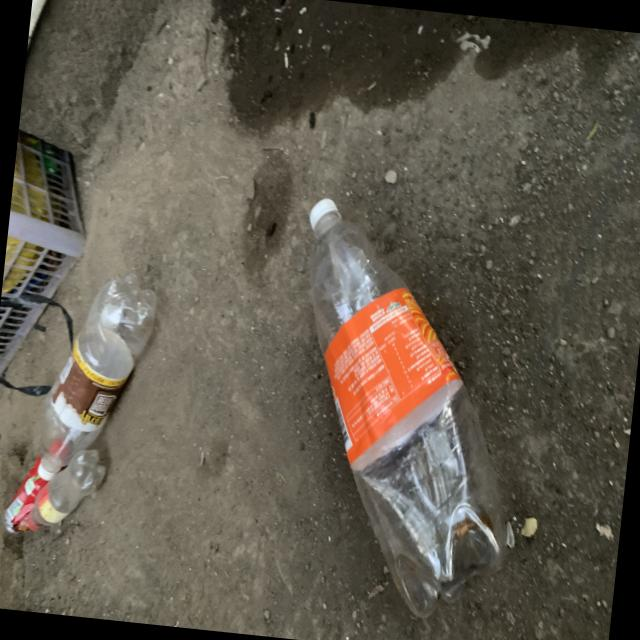Bottle: (309, 197, 515, 617)
